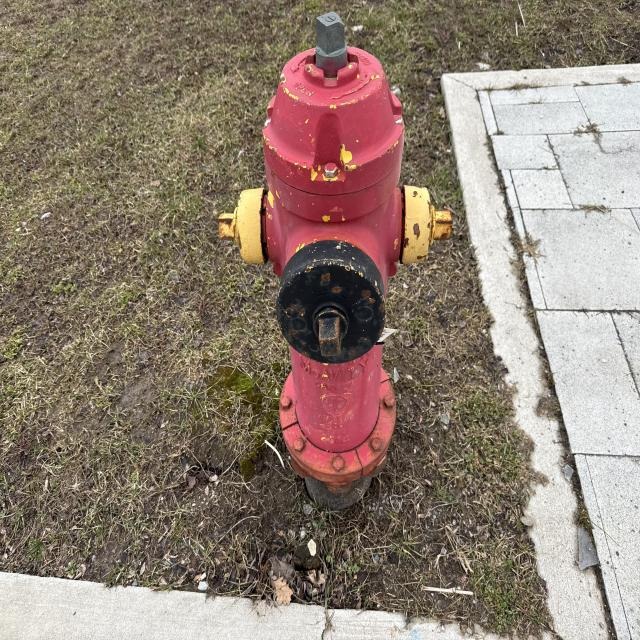Fire hydrant: (217, 11, 453, 494)
